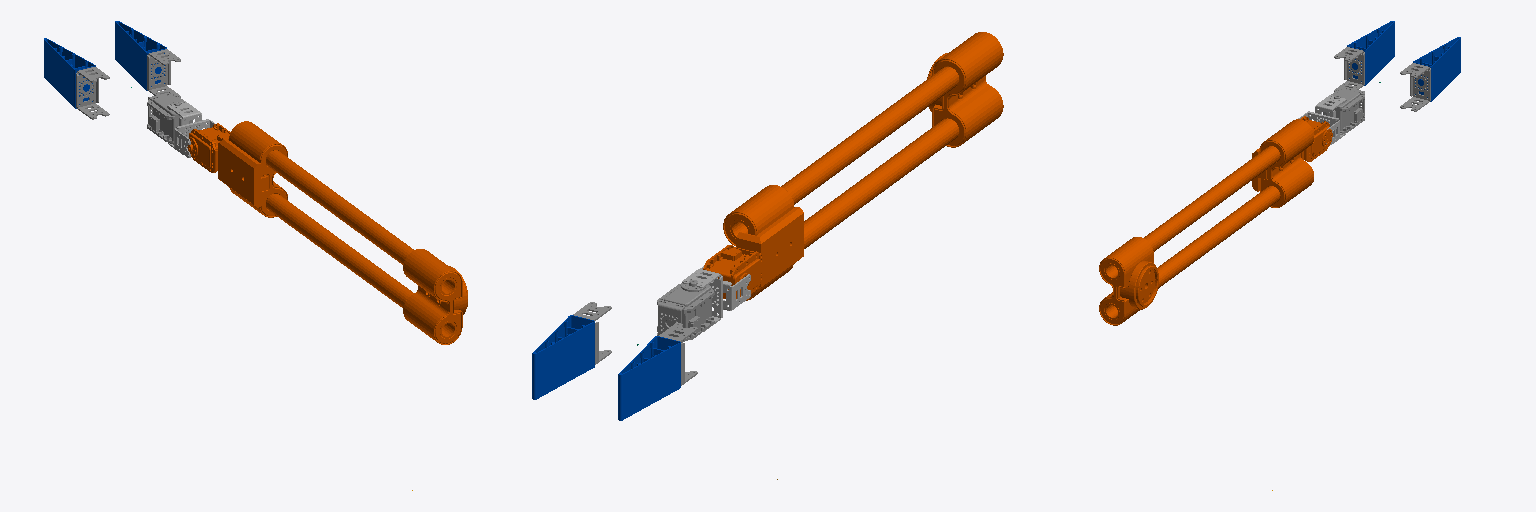
The robot description file, URDF, robot "ohm_robotarm":
<?xml version="1.0"?>
<robot name="ohm_robotarm">

<link name="base_footprint" >
    <visual>
      <origin rpy="0 0 0" xyz="0 0 0"/>
      <geometry>
        <box size="0.001 0.001 0.001"/>
      </geometry>
    </visual>
</link>


<link name="grundplattform">
	<visual>
                <origin xyz="0 0 0" rpy="0 0 3.14159" />
		<geometry>
			<mesh filename="package://ohm_robotarm/data/collada/10-grundplattform.dae" scale="1 1 1"/>
		</geometry>
	</visual>
	<collision>
		<geometry>
			<box size="0.480 1.230 0.230"/>
		</geometry>
		<origin xyz="0 0.1094 0.1159" rpy="0 0 0"/>
	</collision>	
</link>

<joint name="base_footprint_joint" type="fixed">
  <origin rpy="0 0 0" xyz="0 0 0"/>
  <child link="grundplattform"/>
  <parent link="base_footprint"/>
</joint>

<link name="schwenkplattform">
	<visual>
		<origin xyz="0 0 0" rpy="0 0 3.14159" />
		<geometry>
			<mesh filename="package://ohm_robotarm/data/collada/20-schwenkplattform.dae" scale="1 1 1"/>
		</geometry>
	</visual>
	<collision>
		<origin xyz="0.0715 0.0 0.0092" rpy="0 0 0" />
		<geometry>
			<box size="0.213 0.16 0.0318" />
		</geometry>		
	</collision>	
	<limit effort="30.0" velocity="0.5"/>
</link>
<joint name="joint_1" type="continuous">
	<parent link="grundplattform"/>
	<child link="schwenkplattform"/>
	<origin xyz="0 0 0.231" rpy="0 0 0"/>
	<axis xyz="0 0 1" rpy="0 0 0"/>
	<limit effort="65.0" velocity="0.5"/>
</joint>

<link name="cha_armelement">
	<visual>
		<geometry>
			<mesh filename="package://ohm_robotarm/data/collada/30-cha17a-armelement.dae" scale="1 1 1"/>
		</geometry>
	</visual>
	<collision>
		<geometry>
			<box size="0.075 0.08 0.462" />
		</geometry>
                <origin xyz="-0.0259 0 0.1989" rpy="0 0 0"/>
	</collision>
</link>
<joint name="joint_2" type="revolute">
	<parent link="schwenkplattform"/>
	<child link="cha_armelement"/>
	<origin xyz="0.05 -0.115 0.087942" rpy="-1.5707 0 0"/>
	<axis xyz="1 0 0" rpy="0 0 0"/>x
	<limit effort="65.0" velocity="0.5" lower="0" upper="3.1459"/>
</joint>

<link name="fha14_armelement">
	<visual>
		<geometry>
			<mesh filename="package://ohm_robotarm/data/collada/40-fha14-armelement.dae" scale="1 1 1"/>
		</geometry>
	</visual>
	<collision>
		<geometry>
			<box size="0.069 0.08 0.525" />
		</geometry>
                <origin xyz="-0.0312 0.00 0.23" rpy="0 0 0"/>
	</collision>
</link>
<joint name="joint_3" type="revolute">
	<parent link="cha_armelement"/>
	<child link="fha14_armelement"/>
	<origin xyz="-0.0498 0 0.385" rpy="3.141 0 0"/>
	<axis xyz="1 0 0" rpy="0 0 0"/>
	<limit effort="35.0" velocity="0.5" lower="-6.2832" upper="0.0"/>
</joint>

<link name="fha11_armelement">
	<visual>
		<geometry>
			<mesh filename="package://ohm_robotarm/data/collada/50-fha11-armelement.dae" scale="1 1 1"/>
		</geometry>
	</visual>
	<collision>
			<origin xyz="-0.0298 0.0 0.213" rpy="0 0 0" />
		<geometry>
			<box size="0.066 0.08 0.491" />
		</geometry>
	</collision>	
</link>
<joint name="joint_4" type="revolute">
	<parent link="fha14_armelement"/>
	<child link="fha11_armelement"/>
	<origin xyz="-0.0573 0 0.4576" rpy="3.14159 0 0"/>
	<axis xyz="1 0 0" rpy="0 0 0"/>
	<limit effort="15.0" velocity="0.5" lower="0" upper="0"/>
</joint>

<link name="fha11_dynamixel_collision">
	<collision>
		<origin xyz="-0.0437 0.0 0.4576" rpy="0 0 0"/>
		<geometry>
			<box size="0.043 0.0356 0.06211" />
		</geometry>
	</collision>
</link>

<joint name="fha11_collision_connection" type="fixed">
	<parent link="fha11_armelement"/>
	<child link="fha11_dynamixel_collision"/>
	<origin xyz="0 0 0" rpy="0 0 0"/>
</joint>


<link name="TCP_Dynamixel_01">
	<visual>
		<geometry>
			<mesh filename="package://ohm_robotarm/data/collada/50-TCP-01.dae" scale="1 1 1"/>
		</geometry>
	</visual>
	<collision>
		<geometry>
			<box size="0.044 0.044 0.065" />
		</geometry>
                <origin xyz="0 0 0.03" rpy="0 0 0"/>
	</collision>		
</link>
<joint name="joint_5" type="revolute">
	<parent link="fha11_armelement"/>
	<child link="TCP_Dynamixel_01"/>
	<origin xyz="-0.04225 0 0.4468" rpy="0 0 0"/>
	<axis xyz="1 0 0" rpy="0 0 0"/>
	<limit effort="15.0" velocity="0.5" lower="-1.90" upper="1.90"/>
</joint>

<link name="TCP_Dynamixel_02">
	<visual>
                <origin xyz="0.0 0 0.0" rpy="0 3.1416 -1.5708"/>
		<geometry>
			<mesh filename="package://ohm_robotarm/data/collada/50-TCP-02.dae" scale="1 1 1"/>
		</geometry>
	</visual>
	<collision>
		<geometry>
			<box size="0.0438 0.0356 0.0538" />
		</geometry>
                <origin xyz="-0.0017 0 0.015" rpy="0 0 0"/>
	</collision>		
</link>
<joint name="joint_6" type="revolute">
	<parent link="TCP_Dynamixel_01"/>
	<child link="TCP_Dynamixel_02"/>
	<origin xyz="0.0 0 0.06" rpy="0 0 1.5708"/>
	<axis xyz="1 0 0" rpy="0 0 0"/>
	<limit effort="15.0" velocity="0.5" lower="-1.90" upper="1.90"/>
</joint>

<link name="TCP_Dynamixel_03">
	<visual>
                <origin xyz="0.0 0 0.0" rpy="0 3.1416 -1.5708"/>
		<geometry>
			<mesh filename="package://ohm_robotarm/data/collada/50-TCP-03.dae" scale="1 1 1"/>
		</geometry>
	</visual>	
	<collision>
		<geometry>
			<box size="0.0746 0.1196 0.0548" />
		</geometry>
                <origin xyz="0.00942 0.0 0.0112" rpy="0 0 0"/>
	</collision>		
</link>
<joint name="joint_7" type="revolute">
	<parent link="TCP_Dynamixel_02"/>
	<child link="TCP_Dynamixel_03"/>
	<origin xyz="0.0 0.0 0.066895" rpy="0 -1.5708 0"/>
	<axis xyz="1 0 0" rpy="0 0 0"/>
	<limit effort="15.0" velocity="0.5" lower="-3.0" upper="3.0"/>
</joint>

<link name="TCP_Camera">
	<visual>
		<geometry>
			<box size="0.001 0.001 0.001" />
		</geometry>
	</visual>		
</link>

<joint name="joint_cam" type="fixed">
	<parent link="TCP_Dynamixel_03"/>
	<child link="TCP_Camera"/>
	<origin xyz="0.03 0.0 0.002" rpy="0 0 0"/>
	<axis xyz="1 0 0" rpy="0 0 0"/>
</joint>

<link name="TCP_Gripper_01">
	<visual>
                <origin xyz="0.0 0 0.0" rpy="0 3.1416 0"/>
		<geometry>
			<mesh filename="package://ohm_robotarm/data/collada/50-TCP-04.dae" scale="1 1 1"/>
		</geometry>
	</visual>
        <collision>
		<origin xyz="0.0 0 0.0" rpy="0 3.1416 0"/>
                <geometry>
			<mesh filename="package://ohm_robotarm/data/collada/50-TCP-04_collision.dae" scale="1 1 1"/>
		</geometry>
        </collision>	
</link>
<joint name="joint_gripper_1" type="revolute">
	<parent link="TCP_Dynamixel_03"/>
	<child link="TCP_Gripper_01"/>
	<origin xyz="0.020655 0.043313 0.00425" rpy="0 -1.5708 0"/>
	<axis xyz="1 0 0" rpy="0 0 0"/>
	<limit effort="15.0" velocity="0.5" lower="-0.4" upper="1.5708"/>
</joint>

<link name="TCP_Gripper_02">
	<visual>
                <origin xyz="0.0 0 0.0" rpy="0 3.1416 0"/>
		<geometry>
			<mesh filename="package://ohm_robotarm/data/collada/50-TCP-04.dae" scale="1 1 1"/>
		</geometry>
	</visual>	
	<collision>
		<origin xyz="0.0 0 0.0" rpy="0 3.1416 0"/>
                <geometry>
			<mesh filename="package://ohm_robotarm/data/collada/50-TCP-04_collision.dae" scale="1 1 1"/>
		</geometry>	
	</collision>
</link>
<joint name="joint_gripper_2" type="revolute">
	<parent link="TCP_Dynamixel_03"/>
	<child link="TCP_Gripper_02"/>
	<origin xyz="0.020655 -0.043313 0.00425" rpy="0 -1.5708 0"/>
	<axis xyz="1 0 0" rpy="0 0 0"/>
	<limit effort="15.0" velocity="0.5" lower="-1.5708" upper="0.4"/>
</joint>

</robot>

--- What the picture shows (computed from the rendered views, not written in the file) ---
The picture shows the robot from 3 angles, left to right: view 1: azimuth 30°, elevation 25°; view 2: azimuth 150°, elevation 25°; view 3: azimuth 330°, elevation 25°; orthographic projection.
Model ohm_robotarm with 13 links and 12 joints (8 revolute, 1 continuous, 3 fixed), rooted at base_footprint, posed every joint at zero.
Links seen in each view (by area): view 1: fha11_armelement, TCP_Gripper_01, TCP_Gripper_02, TCP_Dynamixel_02, TCP_Dynamixel_01; view 2: fha11_armelement, TCP_Gripper_01, TCP_Gripper_02, TCP_Dynamixel_02, TCP_Dynamixel_01; view 3: fha11_armelement, TCP_Gripper_02, TCP_Gripper_01, TCP_Dynamixel_02, TCP_Dynamixel_01.
Boxes of the visible links, <box> form: fha11_armelement: <box>187,121,467,344</box>; TCP_Gripper_01: <box>44,38,109,119</box>; TCP_Gripper_02: <box>115,21,180,97</box>; TCP_Dynamixel_02: <box>147,92,192,144</box>; TCP_Dynamixel_01: <box>168,101,214,157</box>; fha11_armelement: <box>703,32,1003,300</box>; TCP_Gripper_01: <box>618,323,697,420</box>; TCP_Gripper_02: <box>532,302,611,399</box>; TCP_Dynamixel_02: <box>657,280,714,342</box>; TCP_Dynamixel_01: <box>682,266,750,331</box>; fha11_armelement: <box>1099,116,1332,325</box>; TCP_Gripper_02: <box>1400,37,1460,111</box>; TCP_Gripper_01: <box>1334,21,1394,91</box>; TCP_Dynamixel_02: <box>1323,87,1364,134</box>; TCP_Dynamixel_01: <box>1298,95,1345,144</box>.
Bounding box of the posed robot: 0.1562 × 0.7434 × 0.3622 m (x, y, z).
Meshes: 9 distinct files referenced, 5 mesh visuals loaded (4 Collada DAE); not drawn: 5 (reference not matched to a file when rendering).
